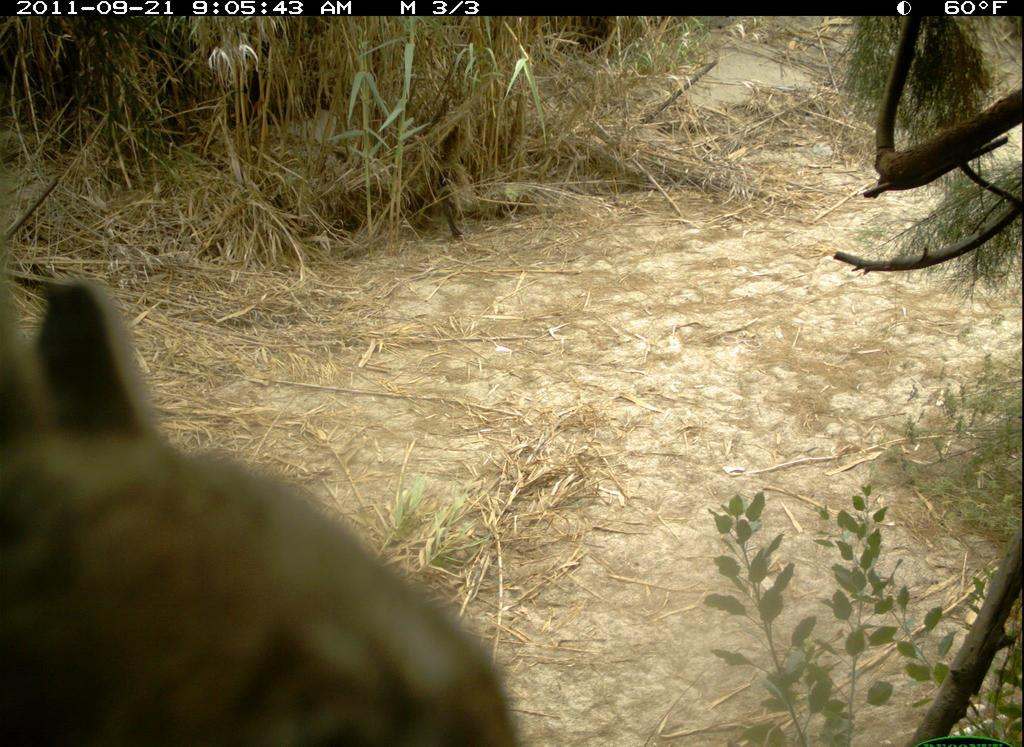bobcat: (3, 246, 541, 747)
